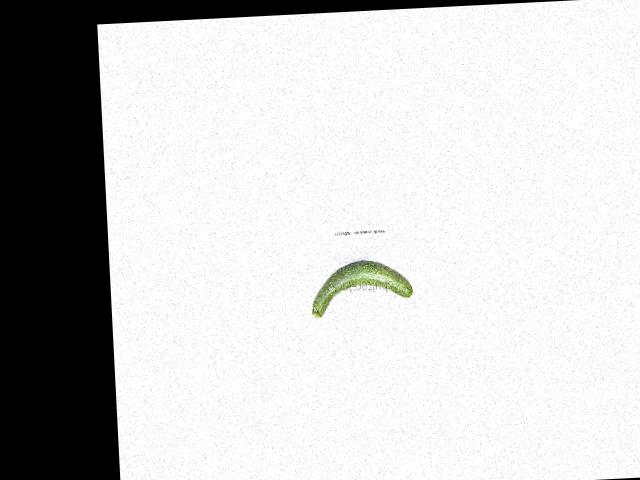cucumber: (309, 258, 413, 318)
